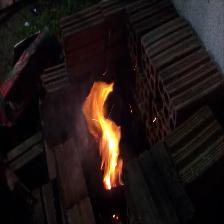fire: (70, 59, 147, 202)
